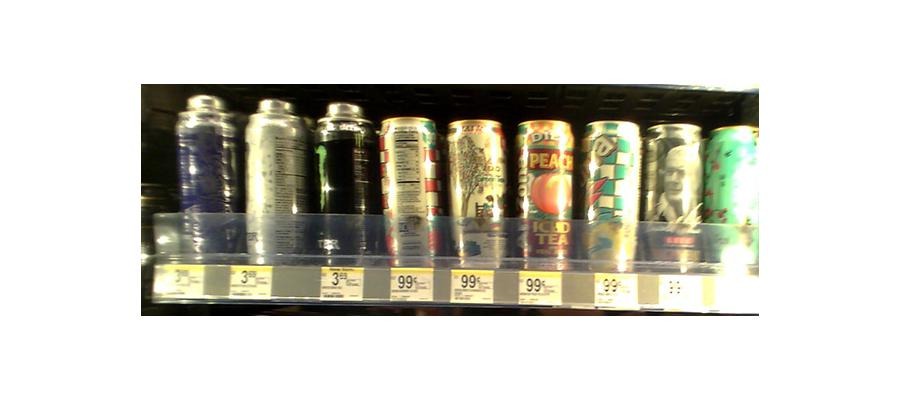bottle: (242, 99, 313, 265), (173, 93, 237, 264), (312, 103, 373, 267), (516, 118, 579, 272), (378, 117, 442, 268), (446, 118, 510, 266), (583, 120, 642, 271), (649, 123, 703, 269), (707, 123, 756, 273)
